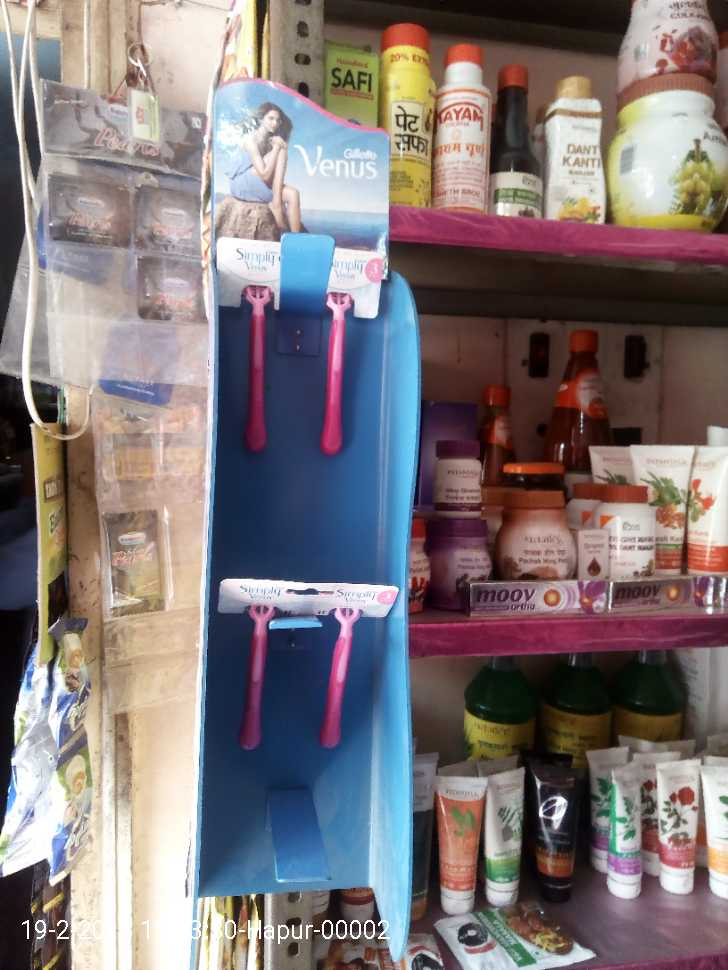reject: (335, 426, 420, 515)
